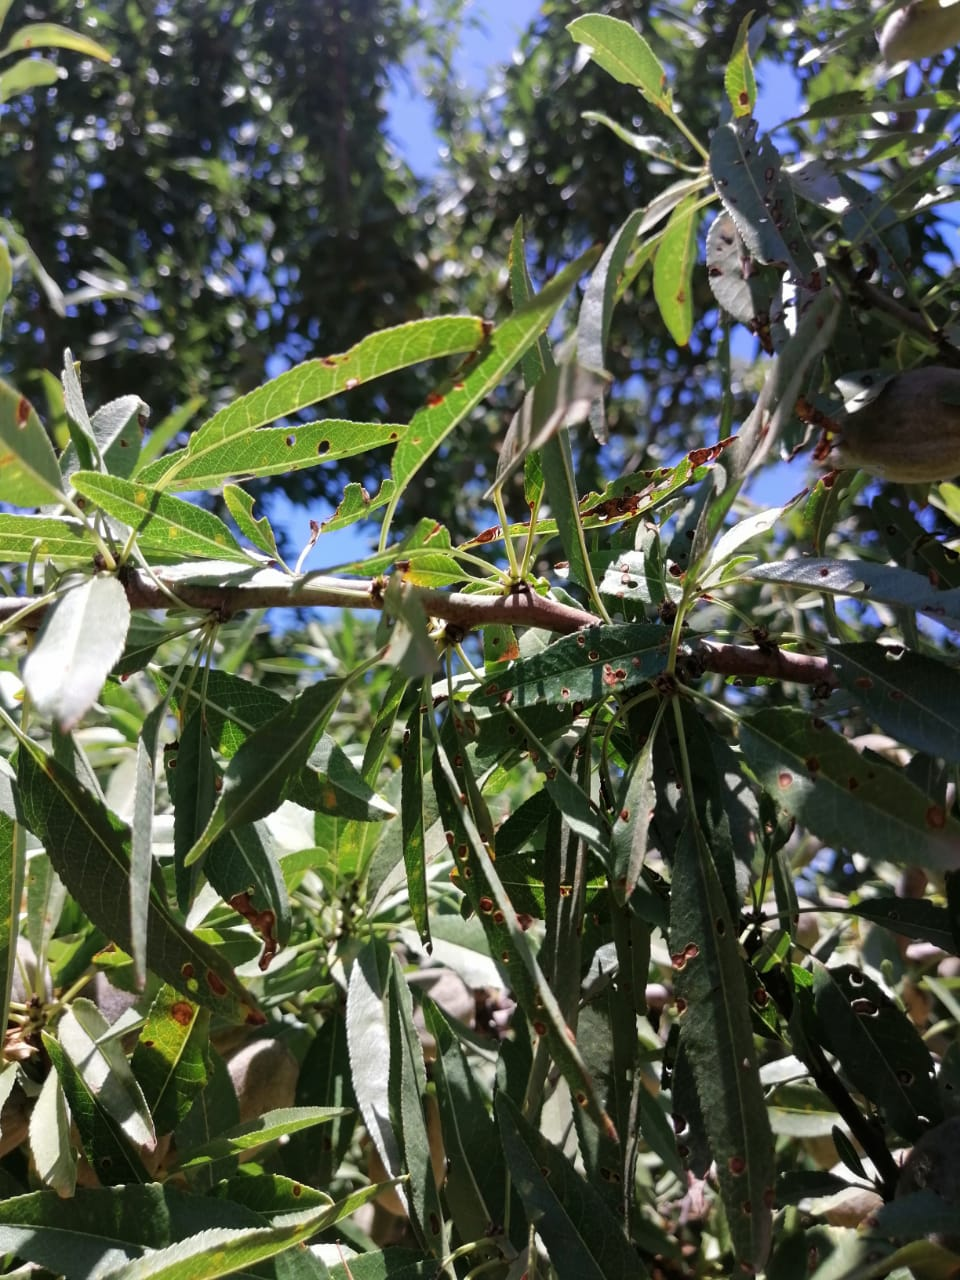coryneum: (10, 735, 287, 1037), (432, 742, 625, 1146), (388, 241, 606, 499), (186, 311, 494, 461), (129, 413, 414, 492), (465, 625, 694, 723), (701, 122, 825, 291)
